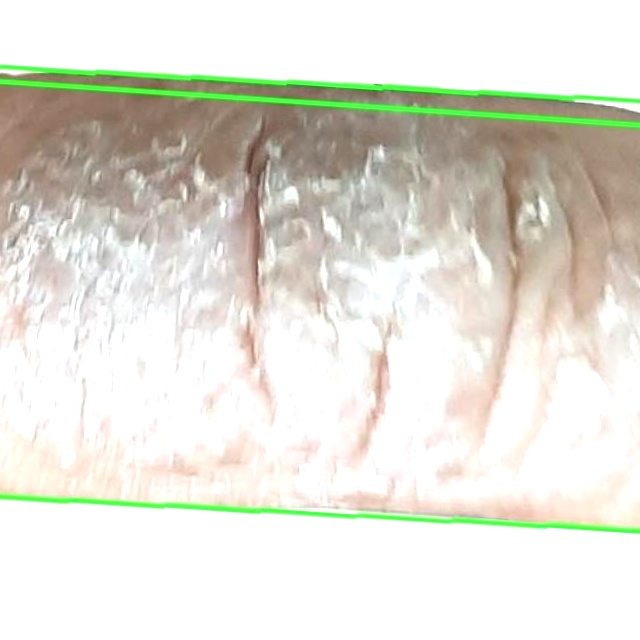Eczema: (0, 66, 639, 530)
